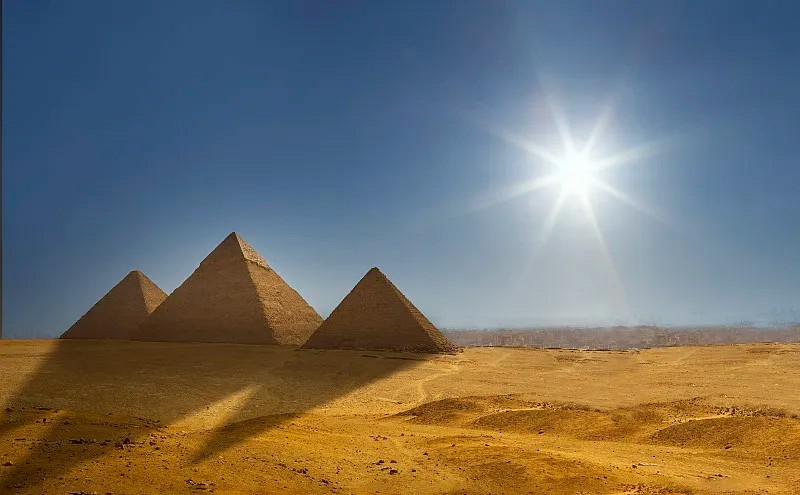Pyramid: (129, 231, 324, 348), (301, 268, 454, 350), (63, 270, 166, 342)
